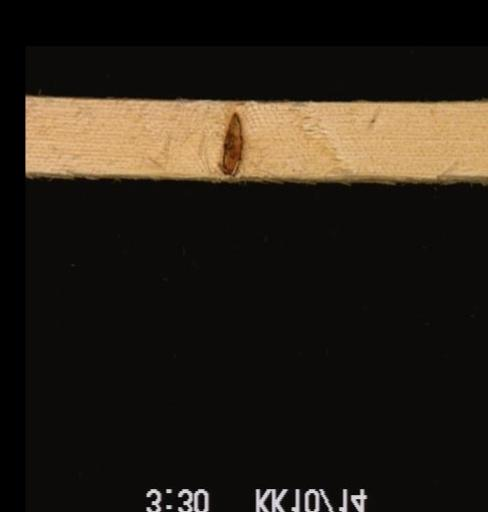edge_knot: (215, 109, 244, 178)
